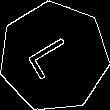L_NE: (25, 30, 83, 83)
